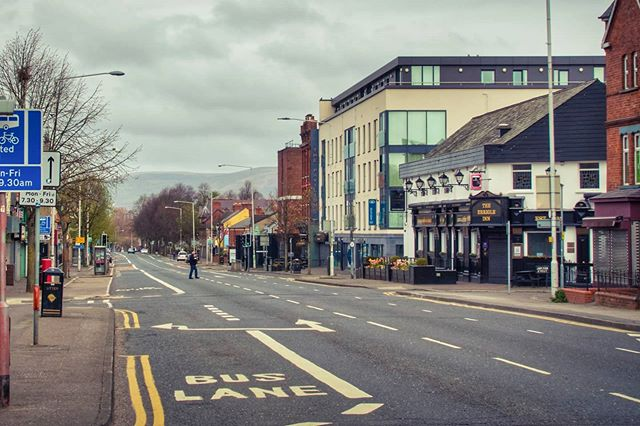building: (408, 90, 599, 290), (571, 1, 640, 293), (311, 58, 401, 264), (278, 117, 312, 269), (217, 206, 279, 266)
sidewalk: (1, 276, 119, 426)
sign: (1, 110, 49, 201), (21, 146, 61, 210)
sky: (93, 1, 290, 152)
street: (78, 260, 640, 426)
